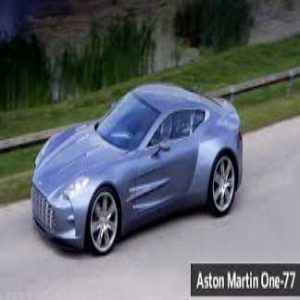door_scratch: (125, 168, 189, 213)
